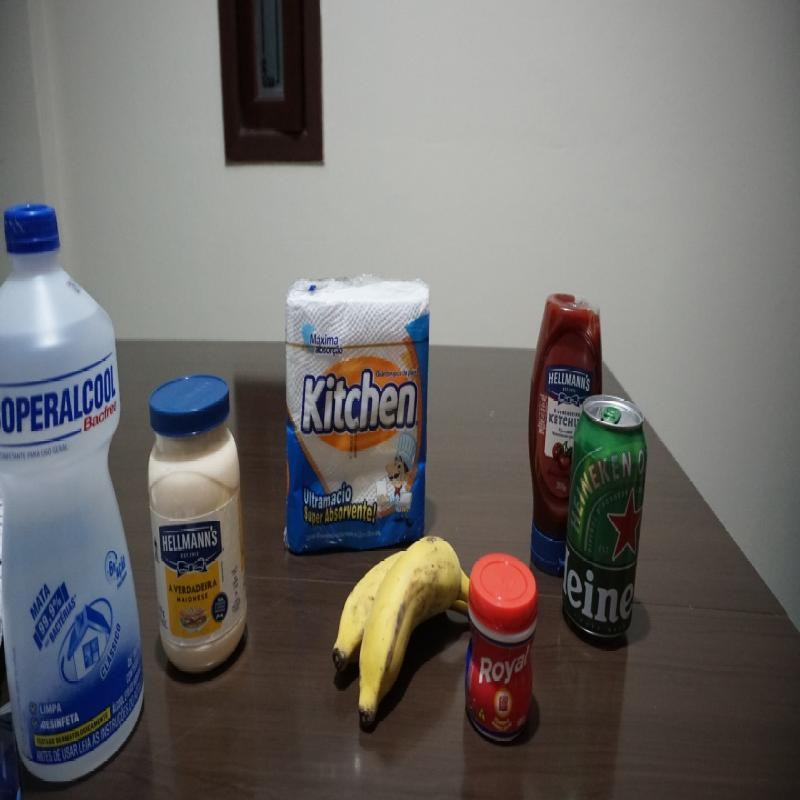Alcohol Bottle: (1, 200, 146, 769)
Banana: (334, 540, 465, 731)
Beer can: (573, 399, 648, 644)
Ketchup: (531, 288, 566, 570)
Mayonnaise: (149, 367, 250, 677)
Napkin: (282, 279, 432, 530)
Yeast: (464, 546, 538, 734)
